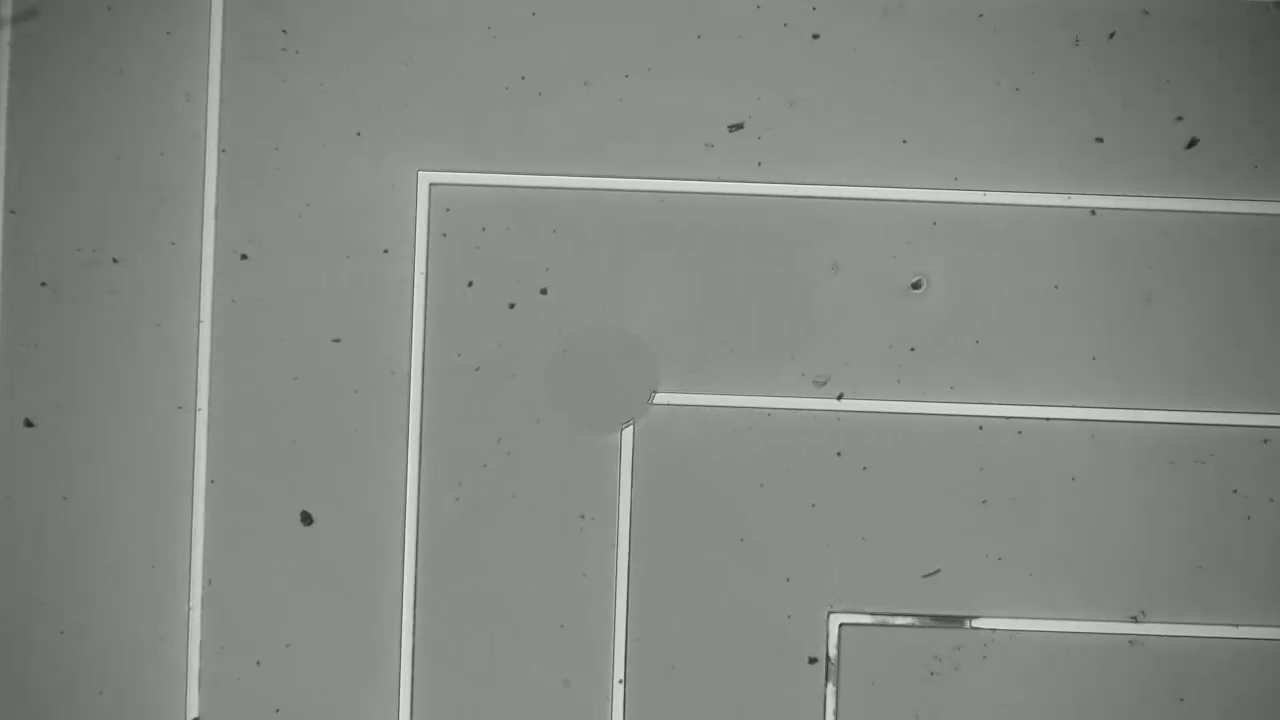gray_line: (877, 598, 1001, 644), (819, 638, 848, 707)
open: (588, 352, 679, 467)
